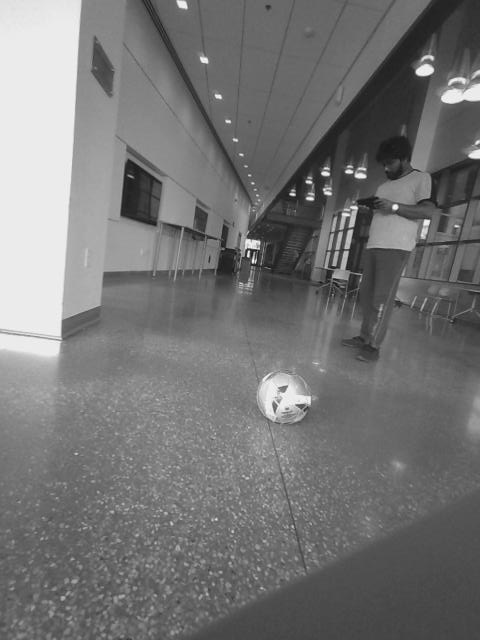ball: (252, 366, 318, 427)
